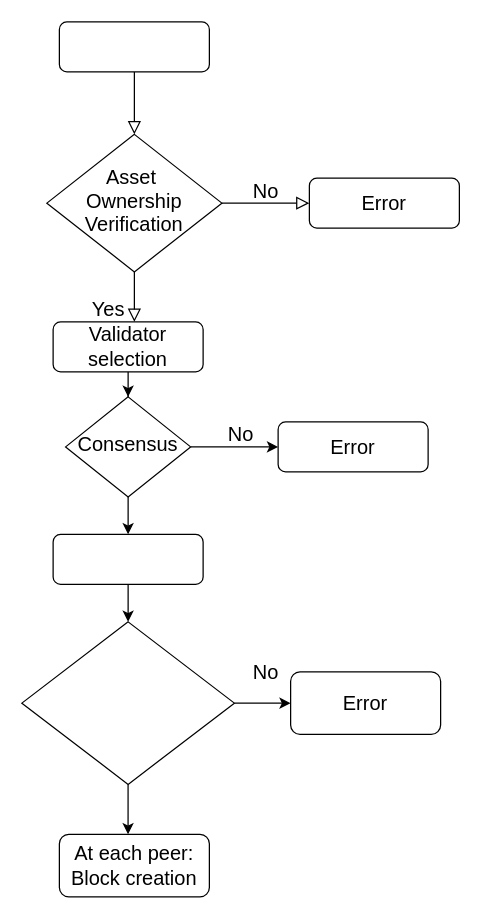
The diagram is 481 pixels wide and 919 high, and some of its shapes have lost their labels. The centre of each missing label's shape, as x and y in pixels:
"At each peer: Consensus verification" belongs at point (127, 702).
"Block creation and broadcast" belongs at point (127, 558).
"Transaction Request" belongs at point (133, 46).
